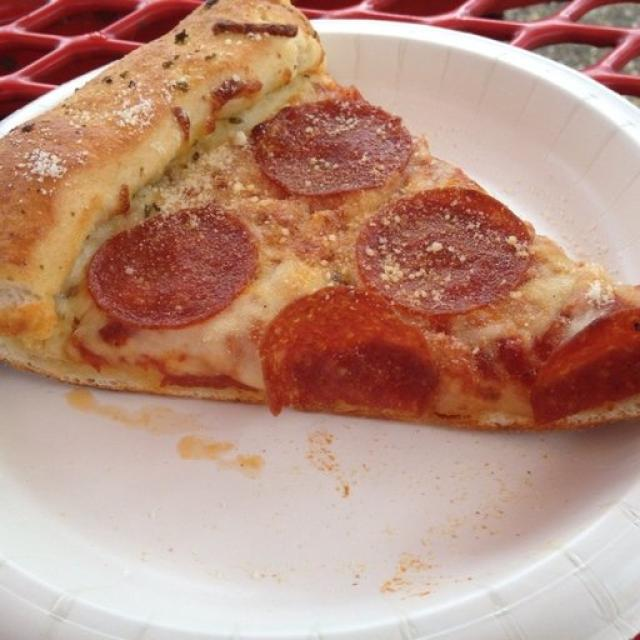Pepperoni: (266, 285, 444, 415), (350, 192, 522, 303), (77, 207, 250, 317), (254, 95, 404, 191), (510, 302, 640, 402)
Pizza: (0, 0, 640, 435)
